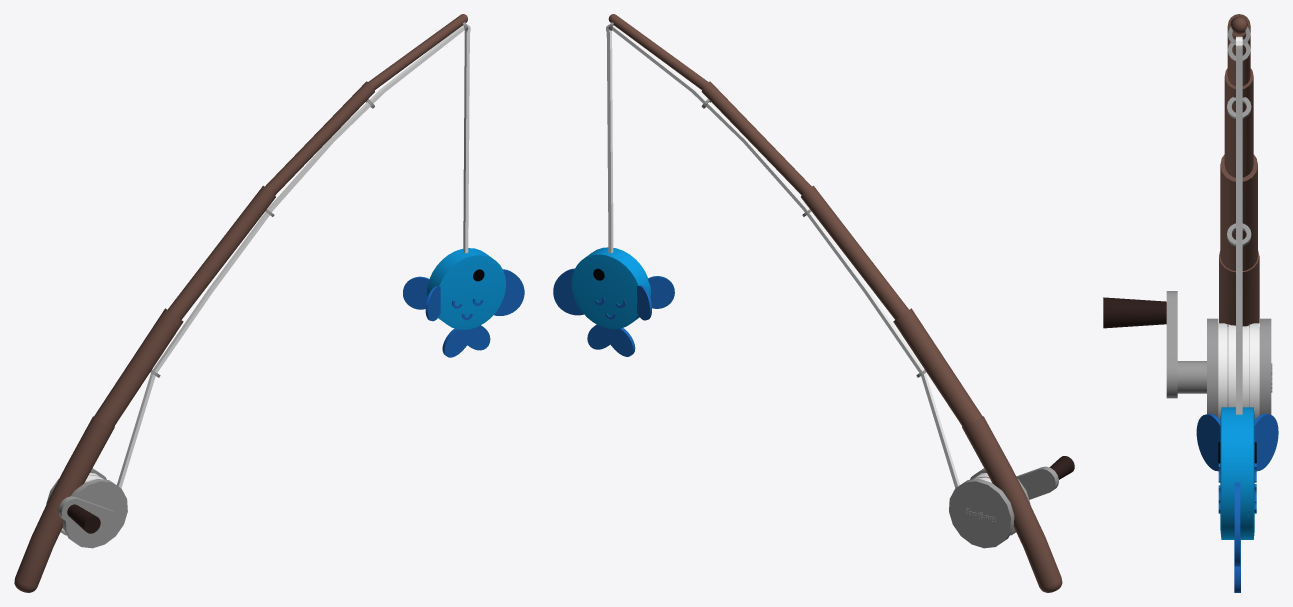
File: fishing_pole.fbx
3 views of the same model, side by side, from view 1: azimuth 30°, elevation 25°; view 2: azimuth 150°, elevation 25°; view 3: azimuth 270°, elevation 25° (orthographic). The views are drawn at different scales.
Visible parts, largest first — view 1: Circle.2530; view 2: Circle.2530; view 3: Circle.2530.
Boxes of the visible parts, x1=… form: Circle.2530: x1=14, y1=14, x2=524, y2=592; Circle.2530: x1=553, y1=14, x2=1074, y2=592; Circle.2530: x1=1103, y1=14, x2=1278, y2=592.
Size of the model in its own units: 227 by 201 by 41.15.
Materials: 1 (1 with a texture image).
